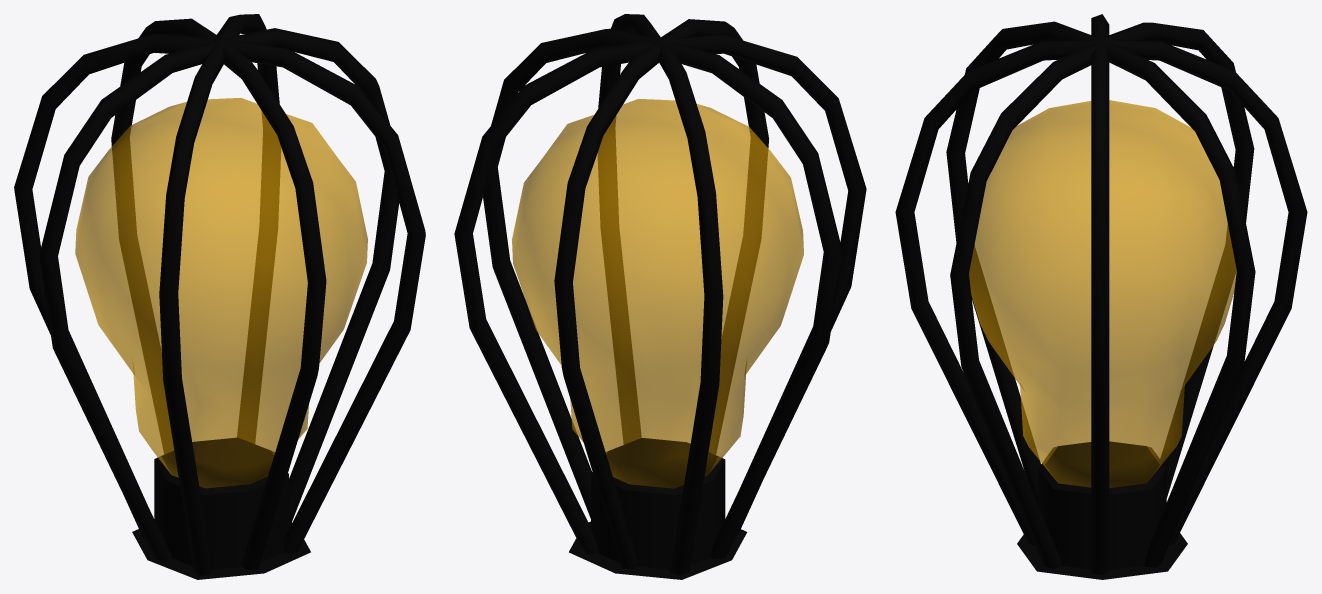
Rendered from Cage Light.fbx.
The picture shows the model from 3 angles, left to right: view 1: azimuth 30°, elevation 25°; view 2: azimuth 150°, elevation 25°; view 3: azimuth 270°, elevation 25°; orthographic projection.
Visible parts, largest first — view 1: Cage_Light, Cage_Light_Bar; view 2: Cage_Light, Cage_Light_Bar; view 3: Cage_Light, Cage_Light_Bar.
Part boxes in pixels (<box>): Cage_Light: <box>75,98,367,579</box>; Cage_Light_Bar: <box>14,14,425,575</box>; Cage_Light: <box>512,99,803,579</box>; Cage_Light_Bar: <box>454,14,866,575</box>; Cage_Light: <box>969,100,1236,579</box>; Cage_Light_Bar: <box>895,14,1307,575</box>.
Size of the model in its own units: 154 by 205 by 152.
